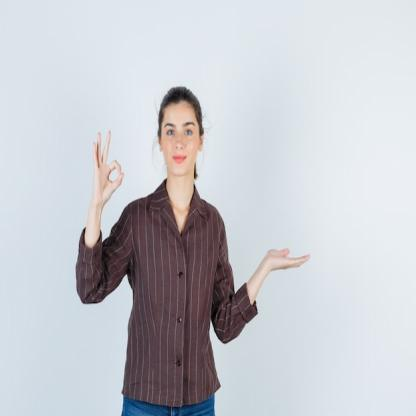ok: (91, 128, 125, 204)
